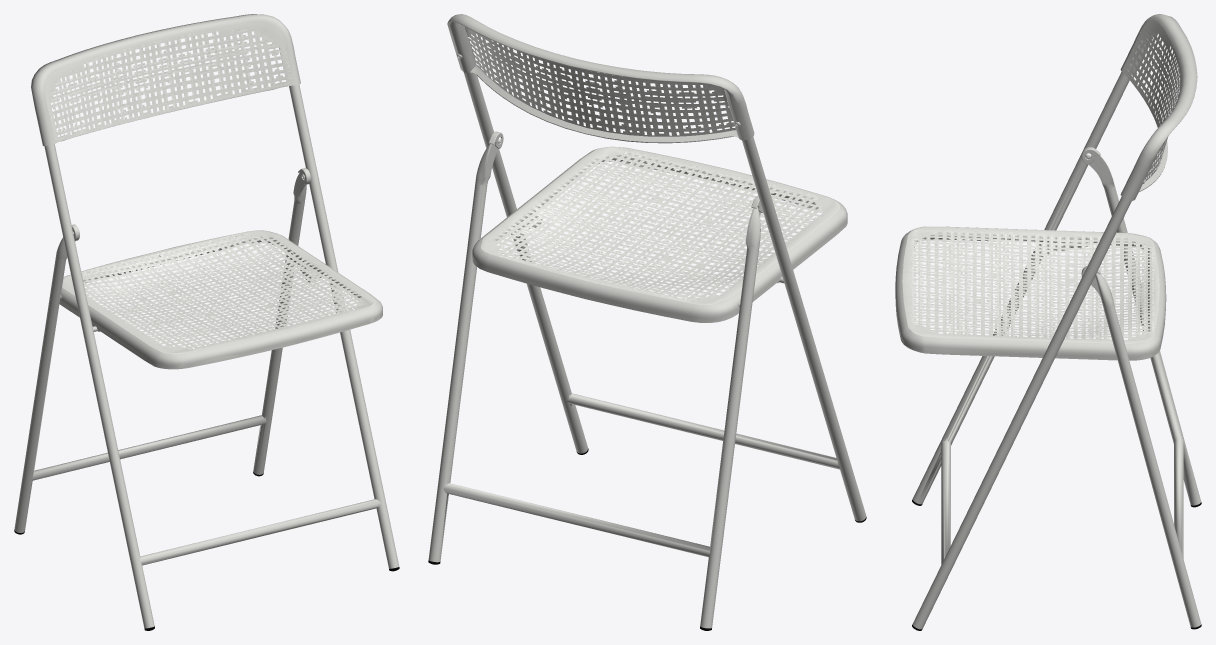
File: torparo_krzeso_ogrodowe_00595406.glb
3 views of the same model, side by side, from view 1: azimuth 30°, elevation 25°; view 2: azimuth 150°, elevation 25°; view 3: azimuth 270°, elevation 25° (orthographic). The views are drawn at different scales.
Visible parts, largest first — view 1: torparo_krzeso_ogrodowe_00595406; view 2: torparo_krzeso_ogrodowe_00595406; view 3: torparo_krzeso_ogrodowe_00595406.
Part boxes in pixels (x1,y1,x2,y2): torparo_krzeso_ogrodowe_00595406: (14,14,399,630); torparo_krzeso_ogrodowe_00595406: (428,14,866,630); torparo_krzeso_ogrodowe_00595406: (895,14,1201,630).
Bounding box in the file's own units: 0.4461 × 0.7834 × 0.4379.
Materials: 5 (2 with a texture image).
